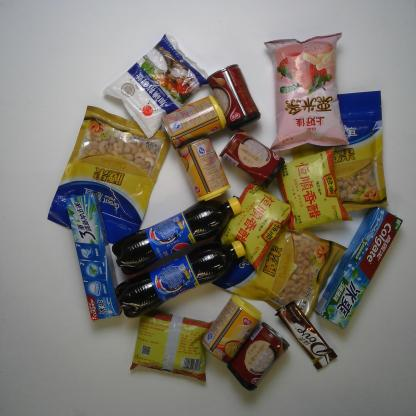Canned Food: (224, 318, 292, 394), (198, 290, 264, 366), (214, 126, 288, 191), (158, 91, 229, 153), (204, 61, 263, 134), (174, 136, 232, 205)
Chocolate: (273, 298, 340, 374)
Dried Fruit: (45, 102, 171, 246), (206, 220, 349, 323), (290, 89, 392, 210)
Drink: (108, 194, 244, 278), (112, 238, 249, 321)
Personal Hygiene: (312, 204, 405, 331), (62, 188, 125, 326)
Puffed Food: (262, 29, 352, 153)
Seasoner: (100, 29, 212, 141), (214, 179, 295, 277), (274, 145, 356, 233), (127, 308, 216, 385)
